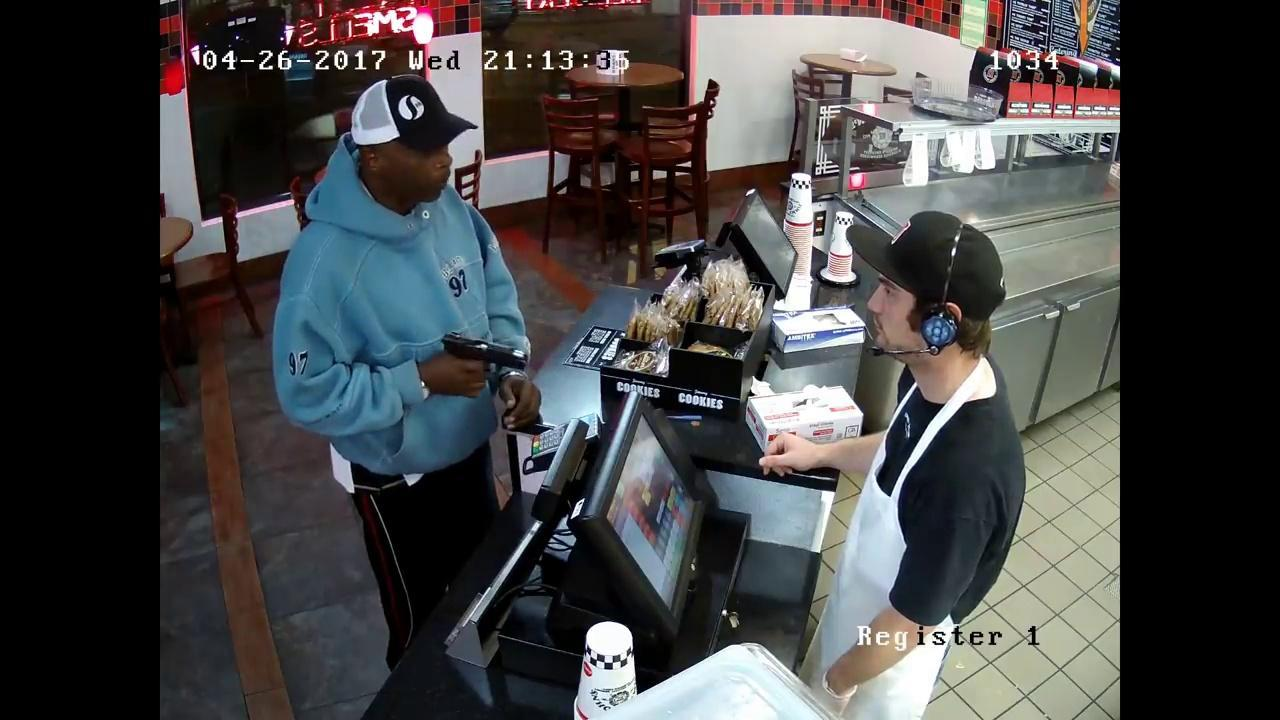Guns: (409, 319, 544, 392)
